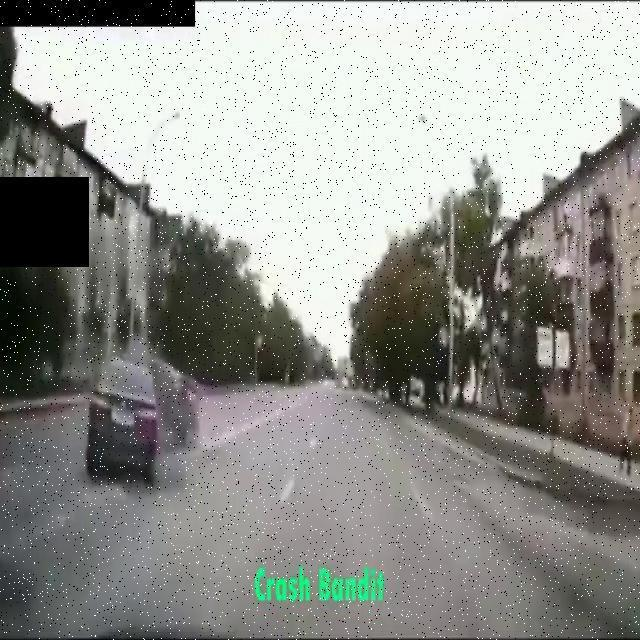multiple_accident: (69, 290, 224, 522)
